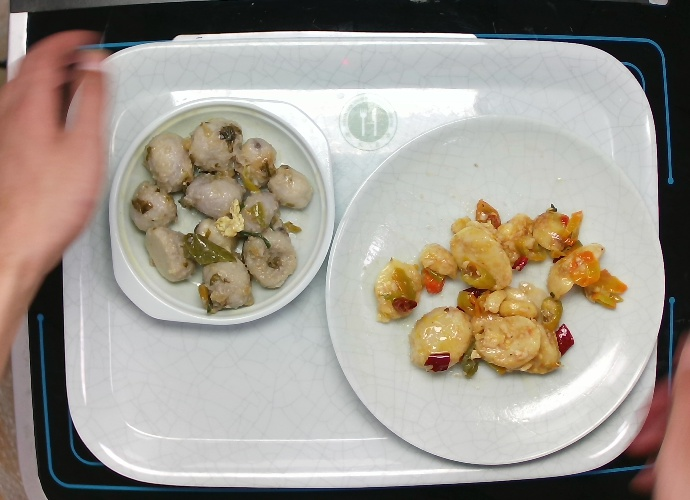JYsf-Da_Yuan_Pan: (321, 111, 669, 470)
JYsf-Shuang_Er_Pan: (103, 93, 340, 330)
